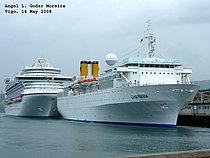Ship: (59, 83, 202, 135), (6, 67, 65, 124)
